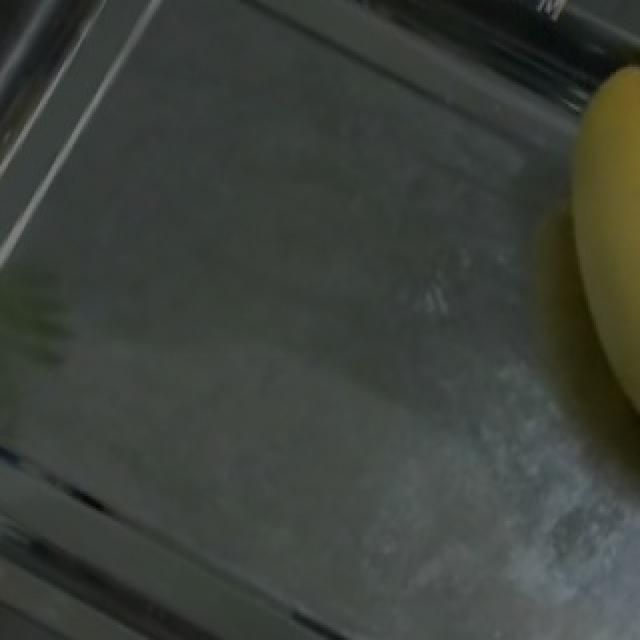fruit: (500, 37, 640, 442)
